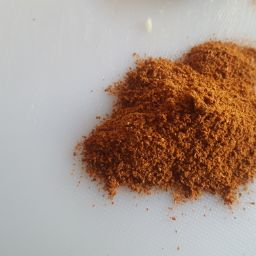Garam masala: (68, 35, 256, 230), (61, 54, 246, 214), (119, 49, 256, 223), (140, 28, 256, 210)
